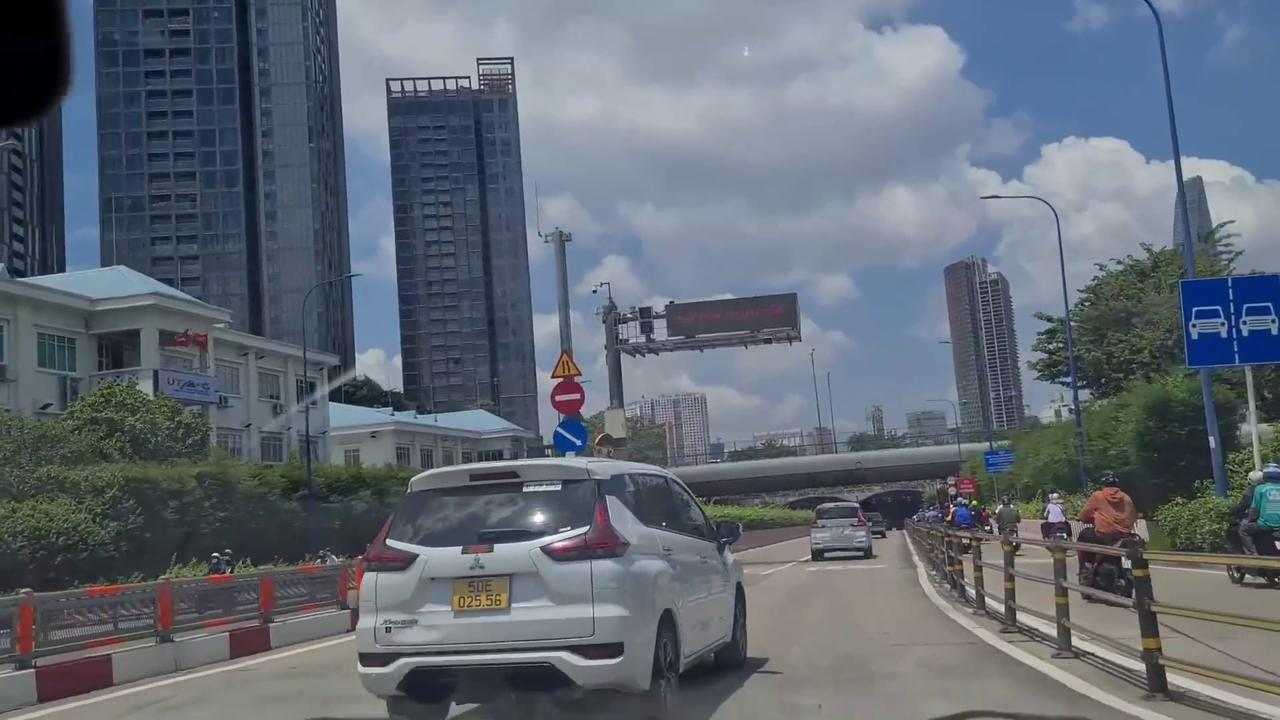Cấm đi ngược chiều: (550, 378, 587, 416)
Hướng phải đi vòng sang phải: (552, 418, 587, 453)
Đuờng hẹp: (550, 351, 583, 377)
